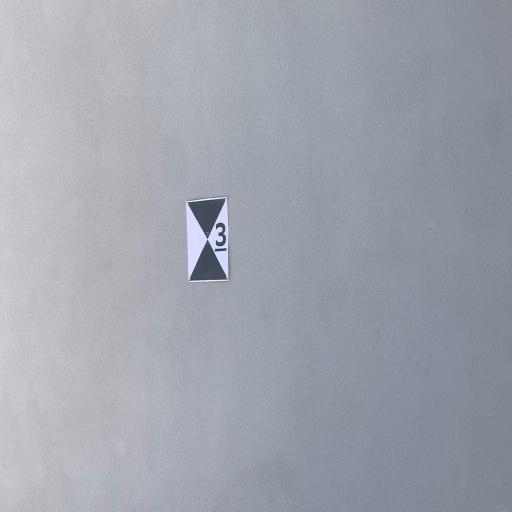target3: (186, 196, 229, 283)
